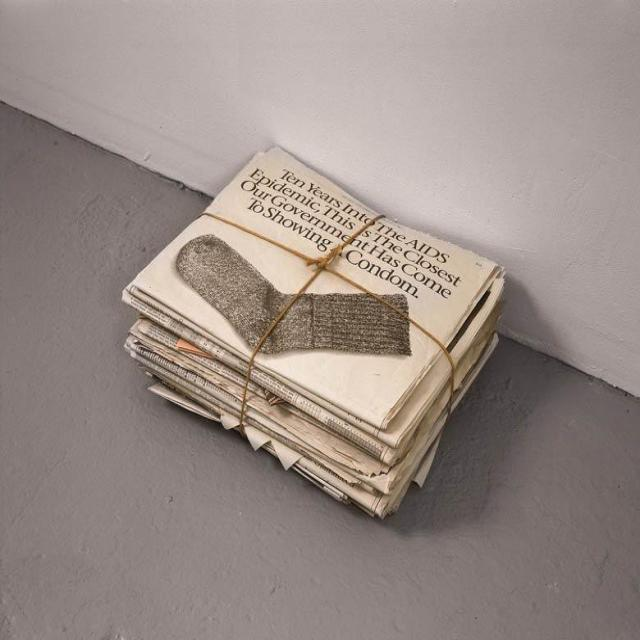paper: (120, 144, 510, 526)
